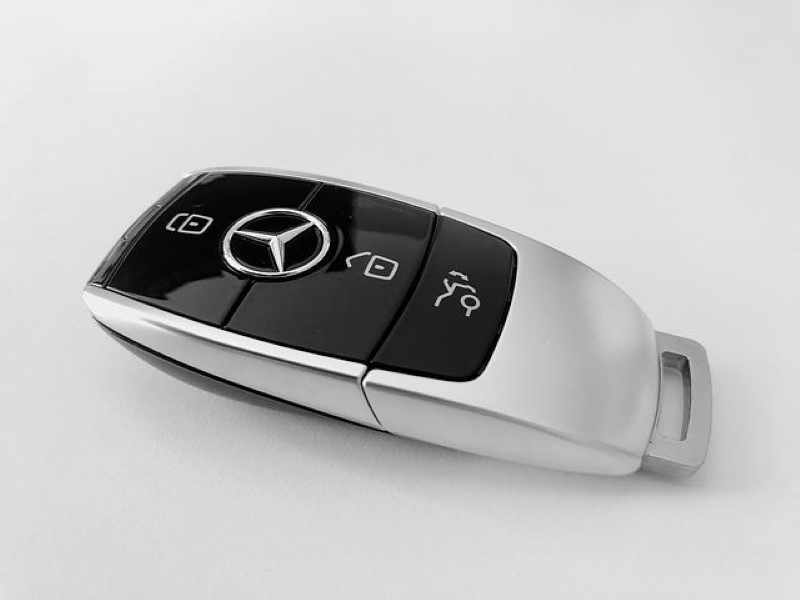carkey: (76, 156, 717, 494)
